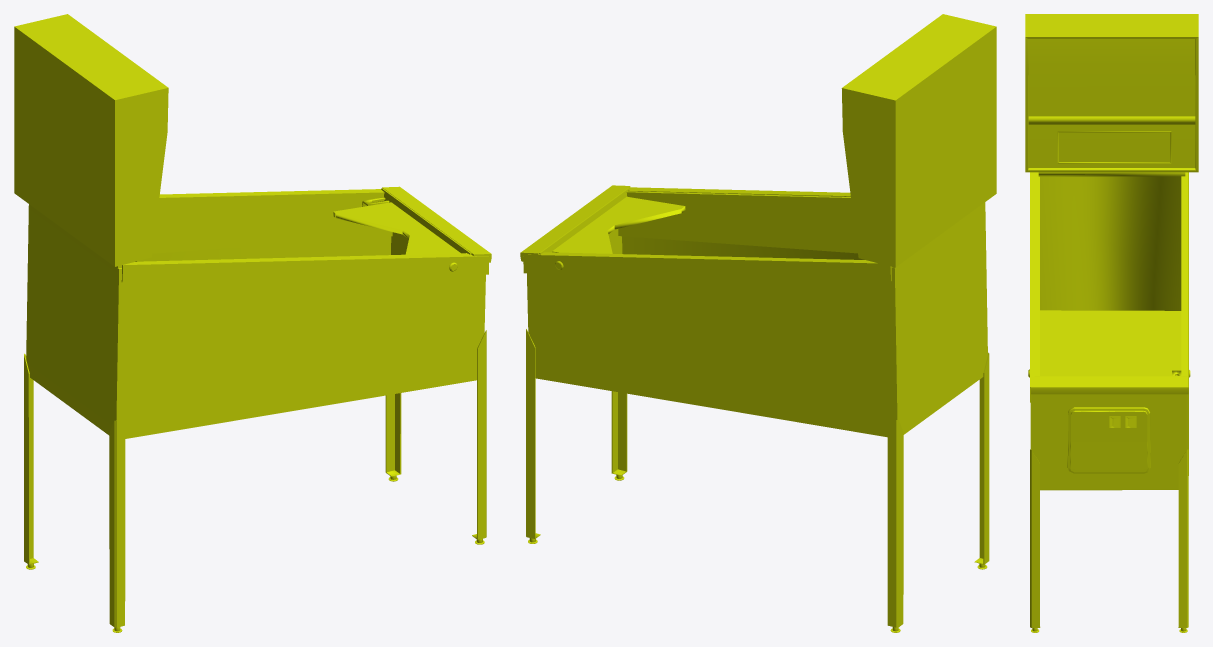
The model's file is Cabinet_Mobile_OneMat.fbx.
3 views of the same model, side by side, from view 1: azimuth 30°, elevation 25°; view 2: azimuth 150°, elevation 25°; view 3: azimuth 270°, elevation 25° (orthographic). The views are drawn at different scales.
Parts seen in each view (by area): view 1: Cabinet_Mobile_OneMat; view 2: Cabinet_Mobile_OneMat; view 3: Cabinet_Mobile_OneMat.
Part boxes in pixels (x1,y1,x2,y2): Cabinet_Mobile_OneMat: [14, 14, 491, 632]; Cabinet_Mobile_OneMat: [520, 14, 996, 632]; Cabinet_Mobile_OneMat: [1025, 14, 1198, 632].
Bounding box in the file's own units: 137 × 184 × 62.51.
